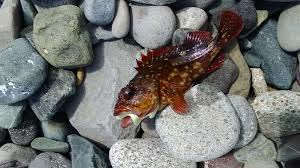saba: (108, 11, 244, 124)
